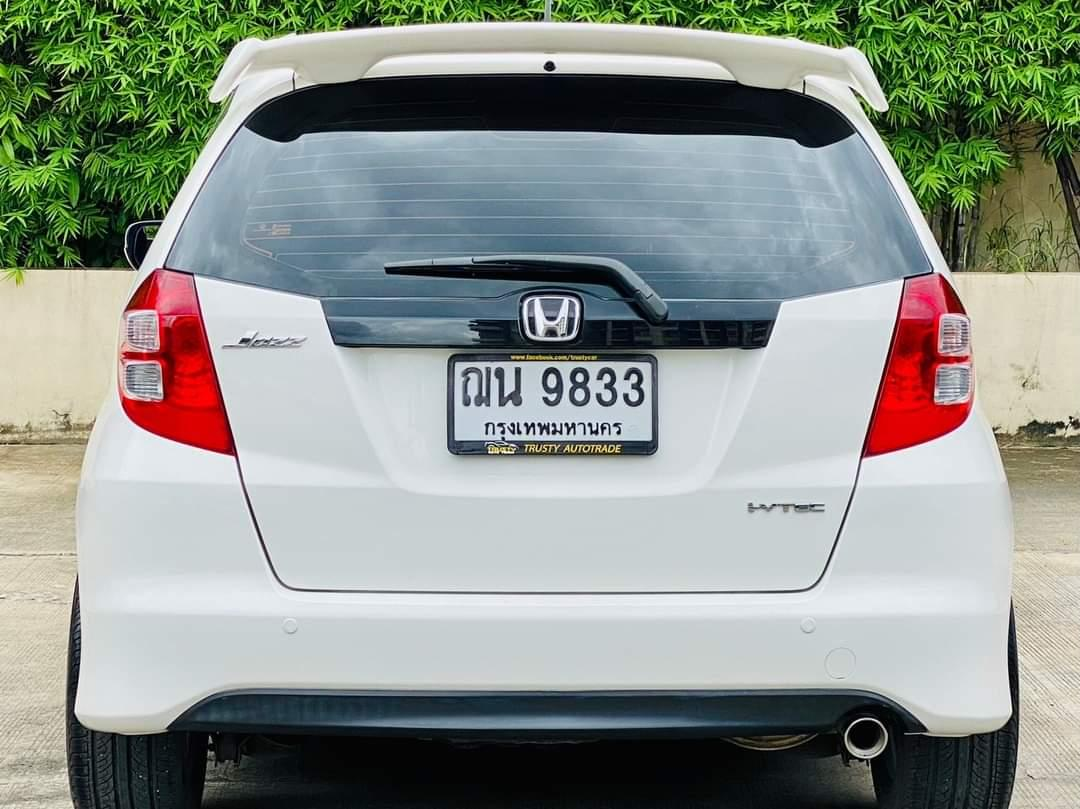license-plate: (445, 351, 662, 460)
